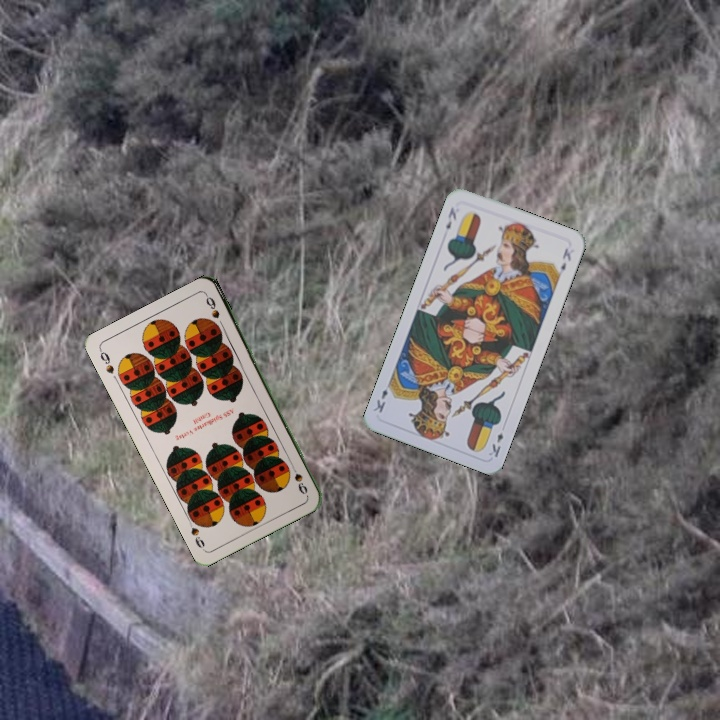EK: (485, 428, 506, 460), (442, 203, 459, 232)
S9: (286, 459, 310, 496), (96, 345, 117, 376)
